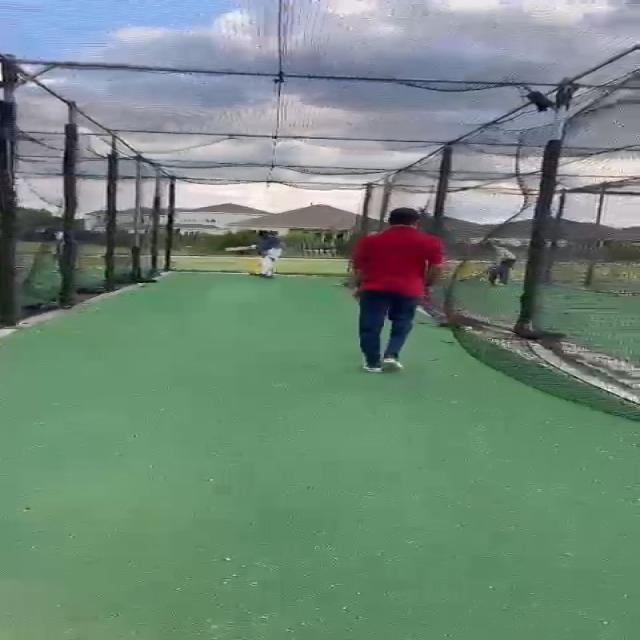batsman: (224, 228, 284, 280)
